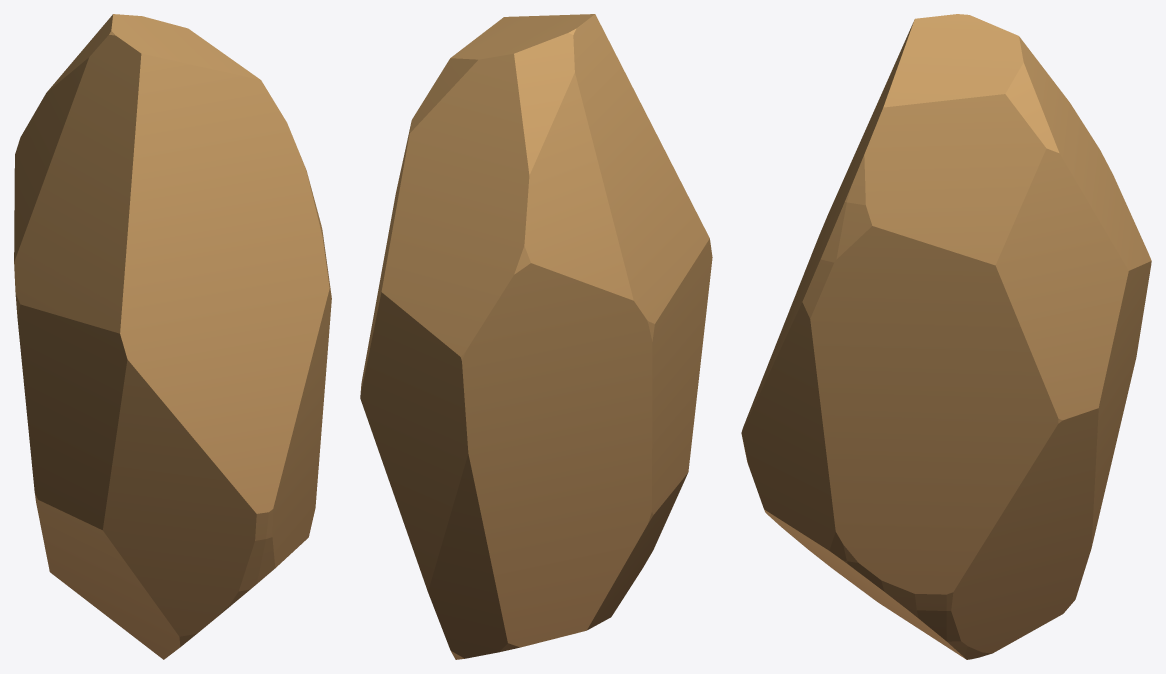
The model's file is rock04.fbx.
3 views of the same model, side by side, from view 1: azimuth 30°, elevation 25°; view 2: azimuth 150°, elevation 25°; view 3: azimuth 270°, elevation 25° (orthographic). The views are drawn at different scales.
Visible parts, largest first — view 1: Rock04; view 2: Rock04; view 3: Rock04.
Boxes of the visible parts, <box> form: Rock04: <box>14,14,331,659</box>; Rock04: <box>360,14,712,659</box>; Rock04: <box>741,14,1151,659</box>.
Size of the model in its own units: 126 by 308 by 190.
